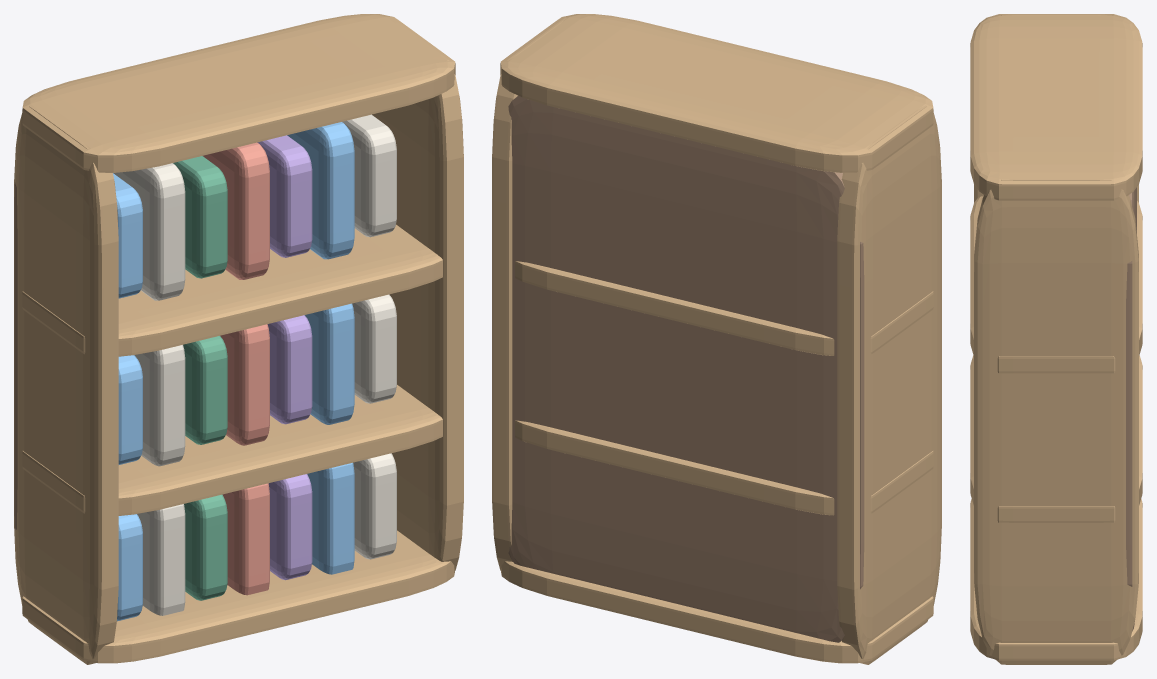
File: bookcase.glb
3 views of the same model, side by side, from view 1: azimuth 30°, elevation 25°; view 2: azimuth 150°, elevation 25°; view 3: azimuth 270°, elevation 25° (orthographic). The views are drawn at different scales.
Visible parts, largest first — view 1: side-0.51, shelf1.44, side0.51, shelf0.92, shelf0.47, shelf0.055, book21, book25, book23, book11, book22, book26 (+16 smaller); view 2: back, side-0.51, shelf1.44, shelf0.055, side0.51, shelf0.92, shelf0.47; view 3: side0.51, shelf1.44, shelf0.055, shelf0.92, shelf0.47, back, side-0.51.
Part boxes in pixels (x1,y1,x2,y2): side-0.51: (14, 105, 118, 664); shelf1.44: (22, 14, 455, 172); side0.51: (372, 17, 463, 570); shelf0.92: (22, 224, 442, 356); shelf0.47: (22, 385, 442, 515); shelf0.055: (22, 530, 454, 663); book21: (113, 163, 185, 300); book25: (287, 122, 354, 259); book23: (203, 142, 269, 279); book11: (134, 345, 185, 466); book22: (173, 156, 227, 278); book26: (342, 114, 396, 237); back: (508, 96, 864, 642); side-0.51: (837, 105, 941, 664); shelf1.44: (500, 14, 933, 172); shelf0.055: (501, 561, 933, 663); side0.51: (492, 17, 566, 570); shelf0.92: (515, 261, 933, 355); shelf0.47: (515, 420, 933, 515); side0.51: (974, 179, 1138, 664); shelf1.44: (970, 14, 1142, 200); shelf0.055: (970, 499, 1142, 660); shelf0.92: (970, 196, 1142, 373); shelf0.47: (970, 355, 1142, 522); back: (1126, 187, 1136, 630); side-0.51: (974, 14, 1138, 202).
Bounding box in the file's own units: 1.1 × 1.47 × 0.47.
